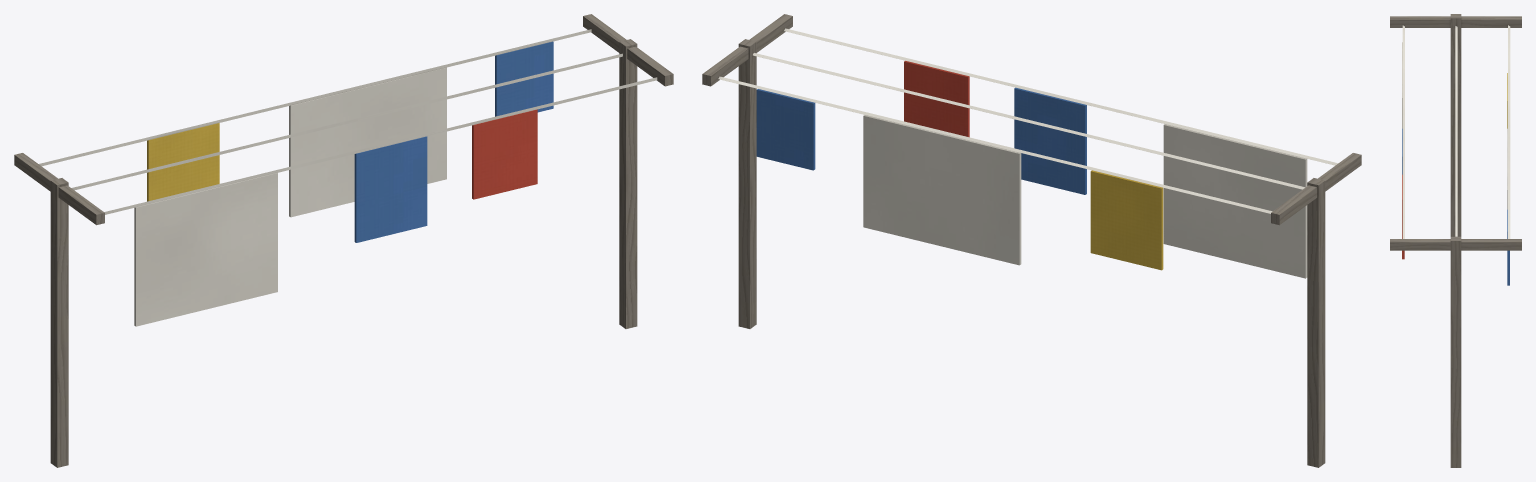
Rendered from tvattlina_tex.glb.
The picture shows the model from 3 angles, left to right: view 1: azimuth 30°, elevation 25°; view 2: azimuth 150°, elevation 25°; view 3: azimuth 270°, elevation 25°; orthographic projection. The views are drawn at different scales.
Parts seen in each view (by area): view 1: tvattlina; view 2: tvattlina; view 3: tvattlina.
Part boxes in pixels (box(x1,y1,x2,y2)): tvattlina: box(14, 14, 673, 467); tvattlina: box(702, 14, 1361, 467); tvattlina: box(1390, 14, 1521, 467).
Bounding box in the file's own units: 4.08 × 1.9 × 1.
Materials: 5 (5 with a texture image).
